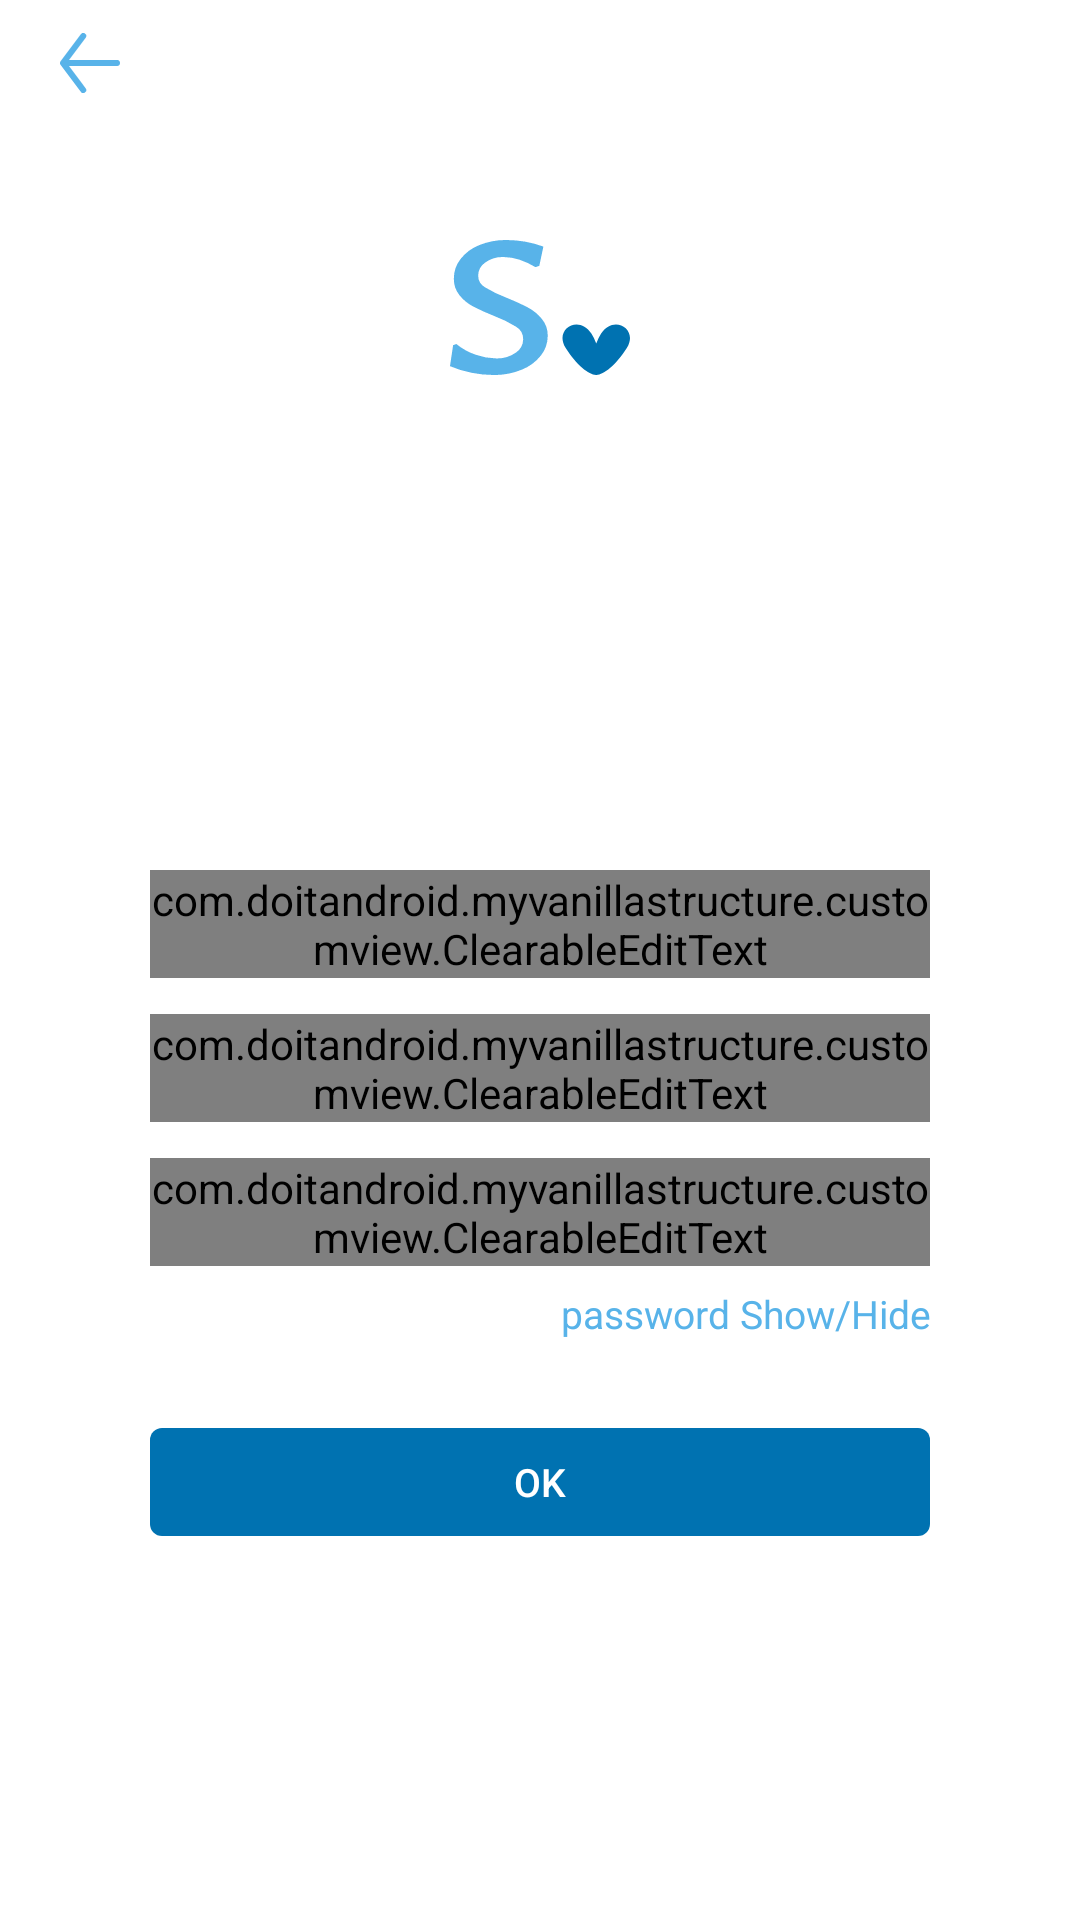

Screen size 1080px×1920px. Icon name, then its center in pixels as (x=x, y=y):
back skyblue: (x=90, y=63)
